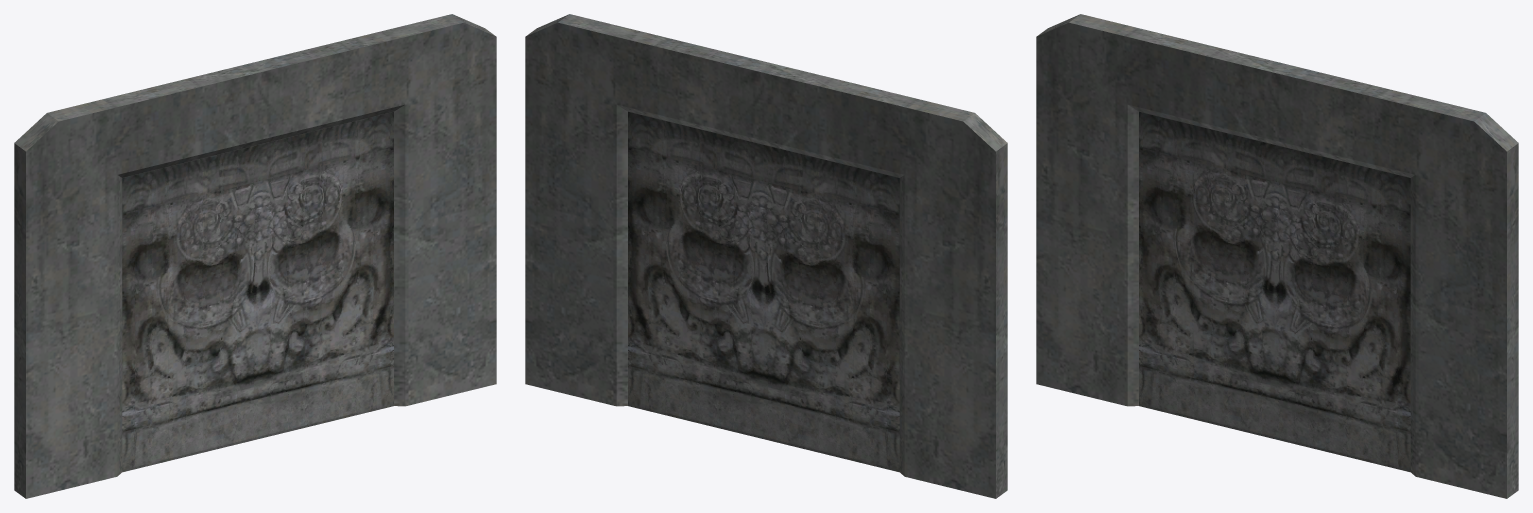
Rendered from door_djt_arena_up_l0.fbx.
The picture shows the model from 3 angles, left to right: view 1: azimuth 30°, elevation 25°; view 2: azimuth 150°, elevation 25°; view 3: azimuth 330°, elevation 25°; orthographic projection.
Visible parts, largest first — view 1: mesh_node; view 2: mesh_node; view 3: mesh_node.
Boxes of the visible parts, box(x1,y1,x2,y2) form: mesh_node: box(14, 14, 496, 498); mesh_node: box(525, 14, 1007, 498); mesh_node: box(1036, 14, 1518, 498).
Size of the model in its own units: 4 by 3 by 0.1737.
